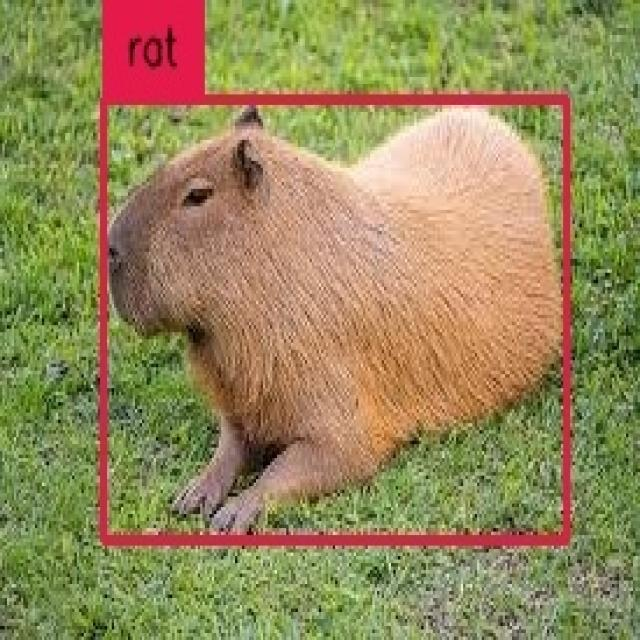rat: (105, 98, 568, 542)
